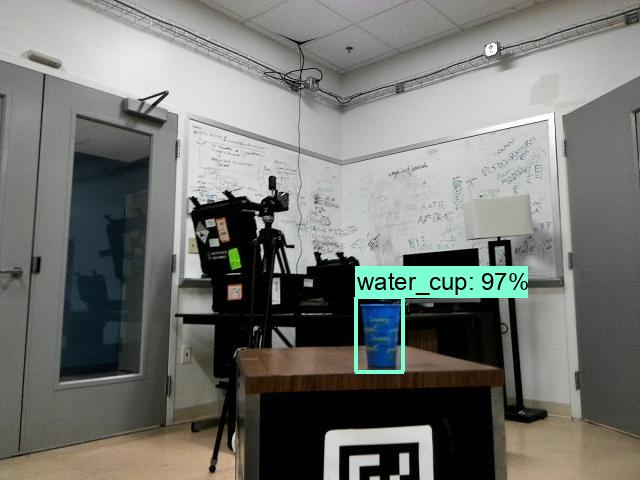water_cup: (356, 299, 403, 370)
